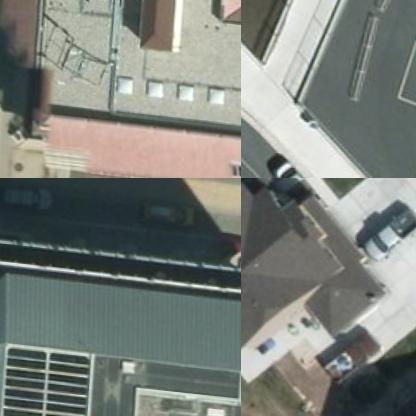car: (356, 195, 415, 263), (316, 326, 378, 386), (138, 188, 197, 228), (0, 179, 49, 213), (208, 232, 240, 277), (260, 158, 330, 177)
